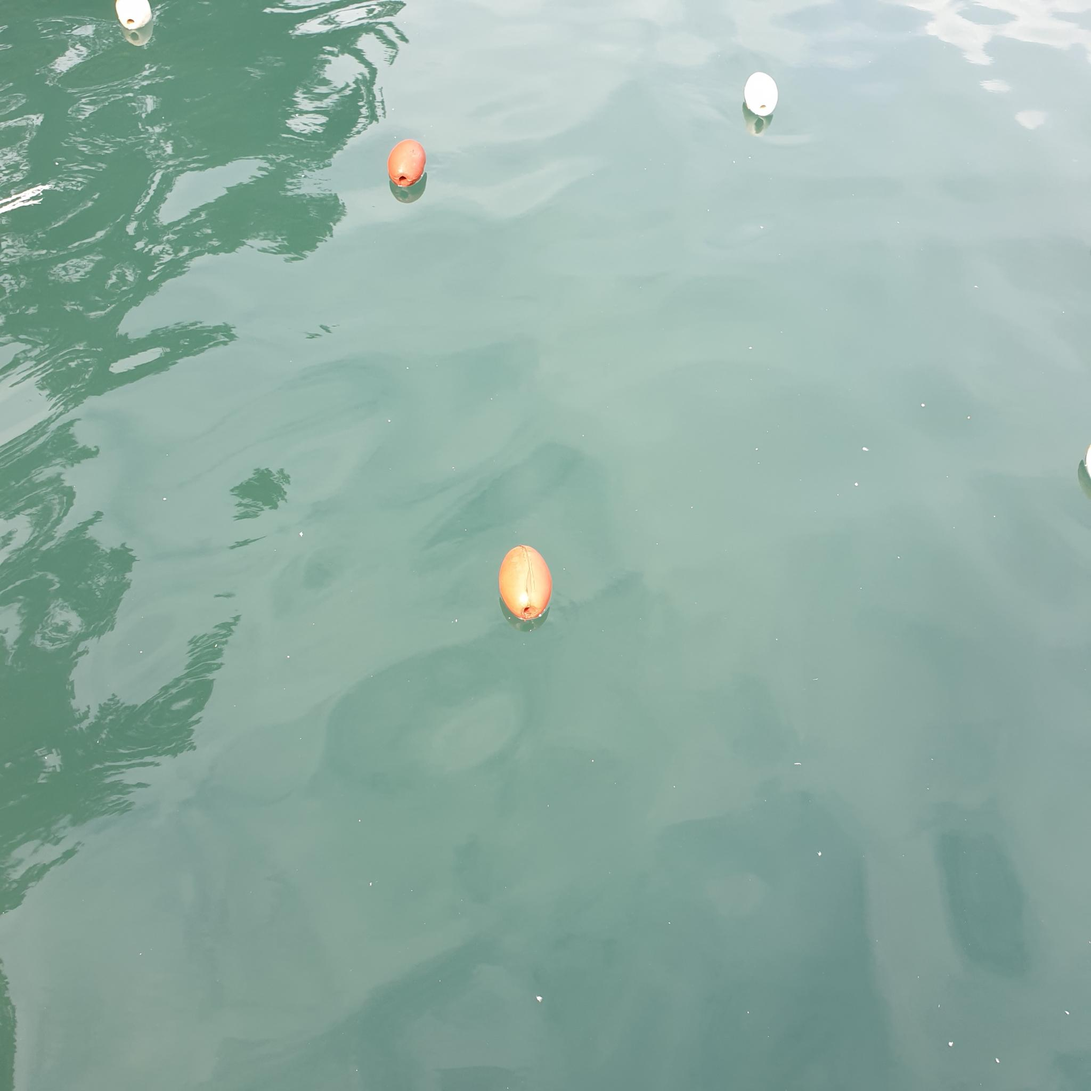sampah_terapung: (499, 546, 552, 621), (388, 140, 427, 187), (744, 72, 779, 117), (1, 184, 52, 214), (116, 1, 153, 31)
